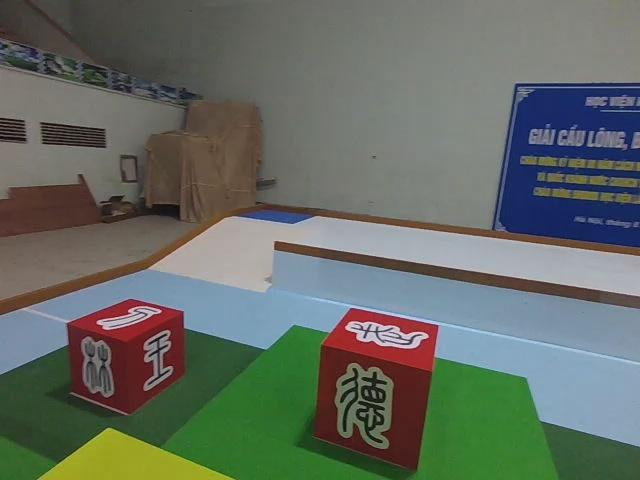R2 Fake: (313, 307, 439, 467), (66, 298, 187, 416)
